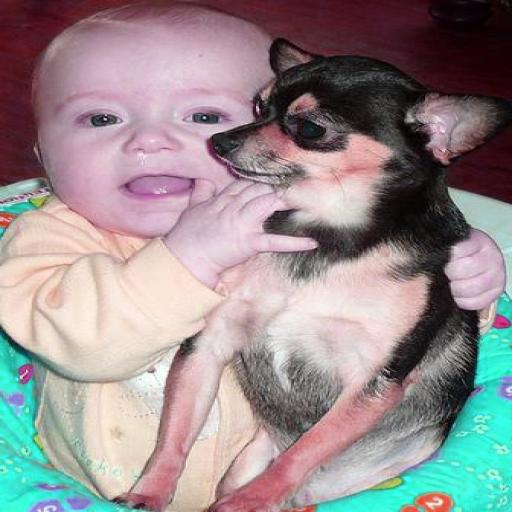dog_face: (219, 42, 503, 191)
